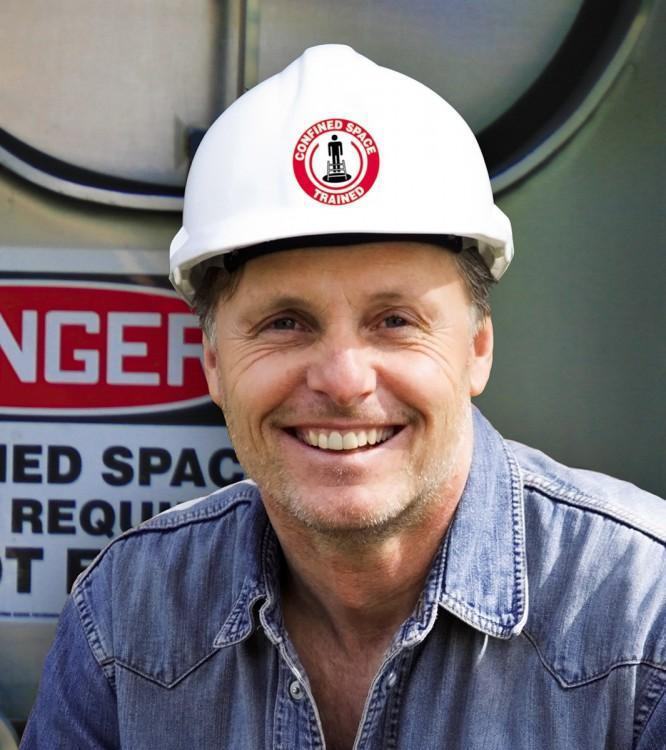helmet: (171, 41, 515, 298)
